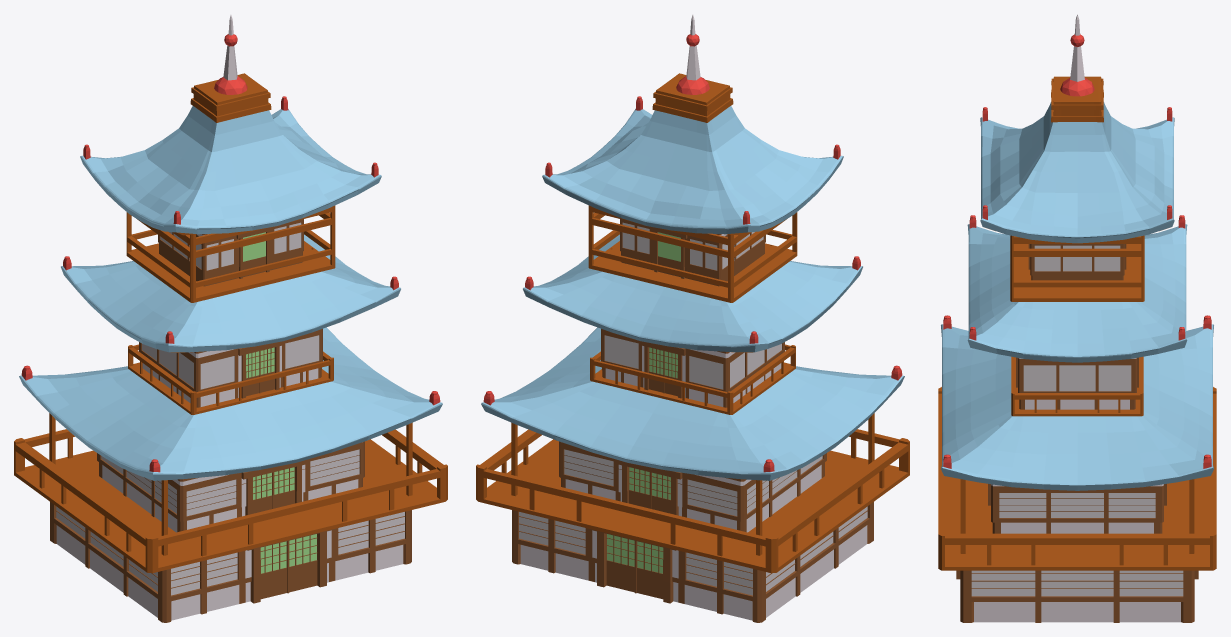
File: japanese_temple.fbx
3 views of the same model, side by side, from view 1: azimuth 30°, elevation 25°; view 2: azimuth 150°, elevation 25°; view 3: azimuth 270°, elevation 25° (orthographic).
Parts seen in each view (by area): view 1: Cube.009; view 2: Cube.009; view 3: Cube.009.
Part boxes in pixels (x1=…): Cube.009: x1=14, y1=15, x2=447, y2=622; Cube.009: x1=476, y1=15, x2=909, y2=622; Cube.009: x1=938, y1=14, x2=1216, y2=622.
Bounding box in the file's own units: 1335 × 2280 × 1051.
